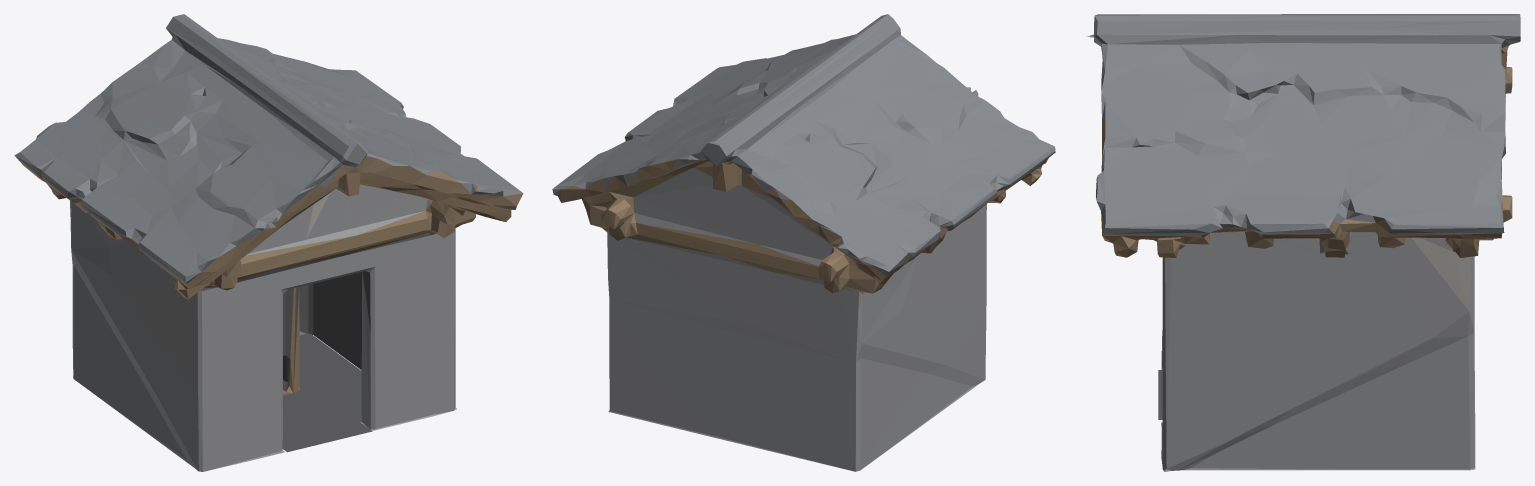
The picture shows the model from 3 angles, left to right: view 1: azimuth 30°, elevation 25°; view 2: azimuth 150°, elevation 25°; view 3: azimuth 270°, elevation 25°; orthographic projection. The views are drawn at different scales.
Visible parts, largest first — view 1: geometry_0; view 2: geometry_0; view 3: geometry_0.
Part boxes in pixels (x1,y1,x2,y2): geometry_0: (14,14,523,471); geometry_0: (552,14,1055,471); geometry_0: (1086,14,1520,471).
Bounding box in the file's own units: 1 × 0.8874 × 0.9215.
